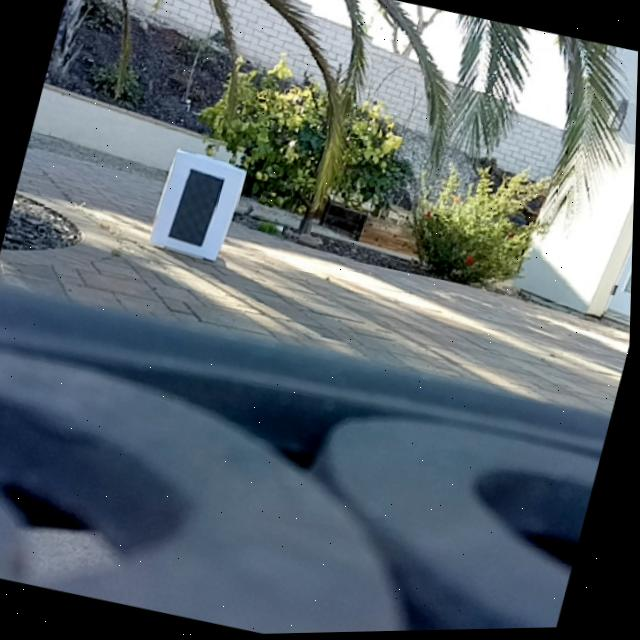led: (168, 166, 228, 251)
